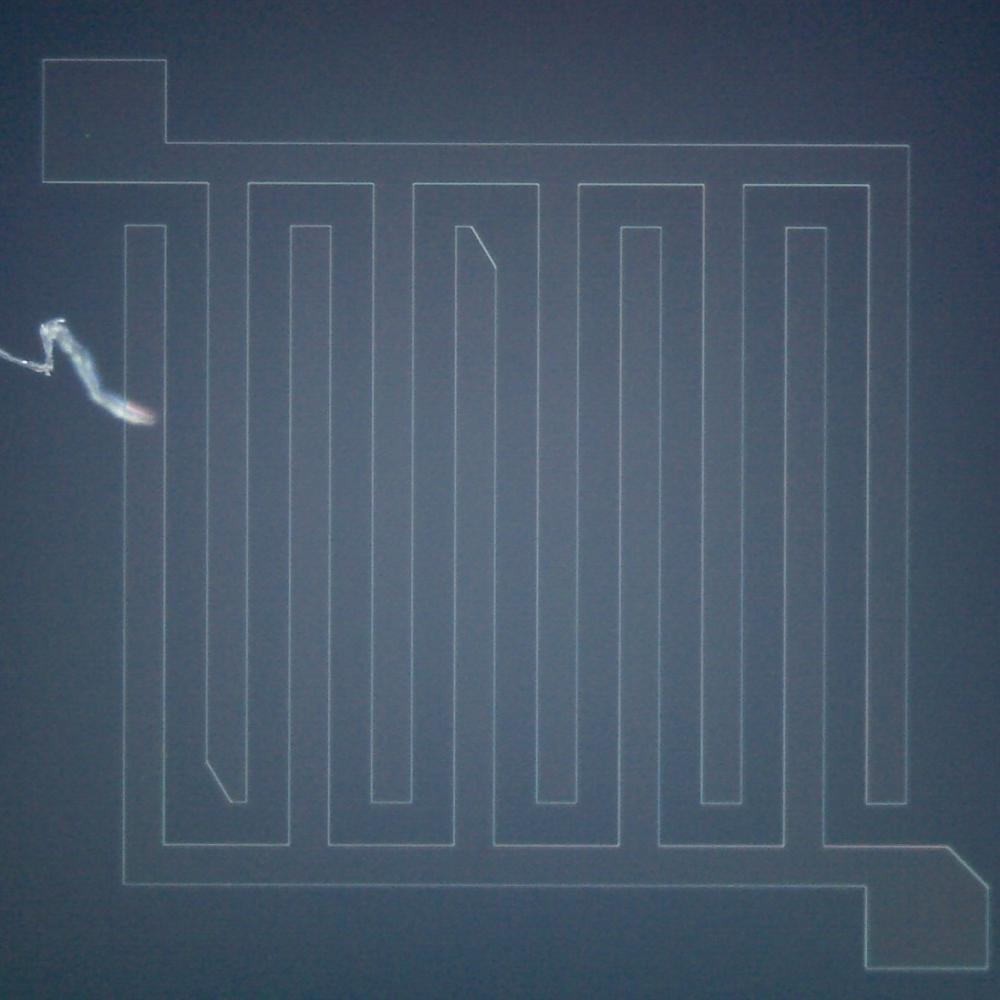curve: (37, 313, 74, 350), (69, 351, 106, 387), (0, 343, 36, 378), (86, 388, 122, 423), (127, 395, 163, 430)
dot: (84, 132, 91, 139)
